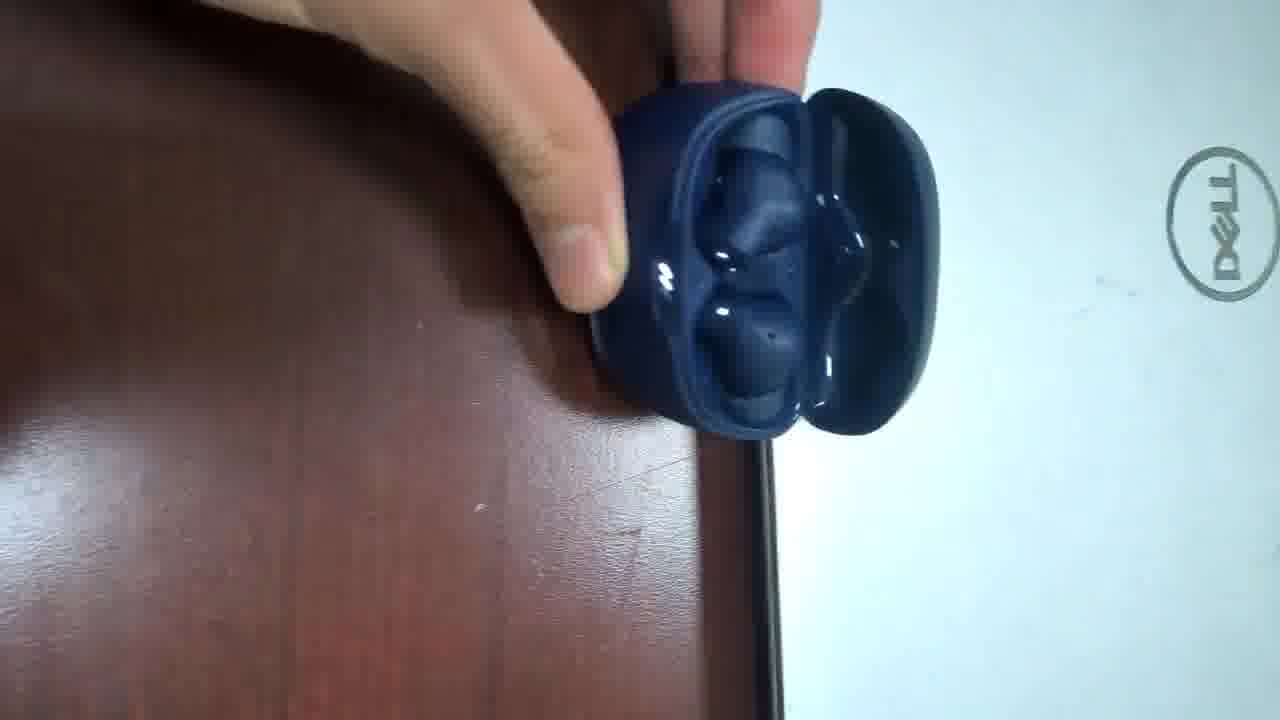Case: (590, 83, 937, 438)
Earbud: (698, 112, 808, 265), (696, 297, 800, 398)
